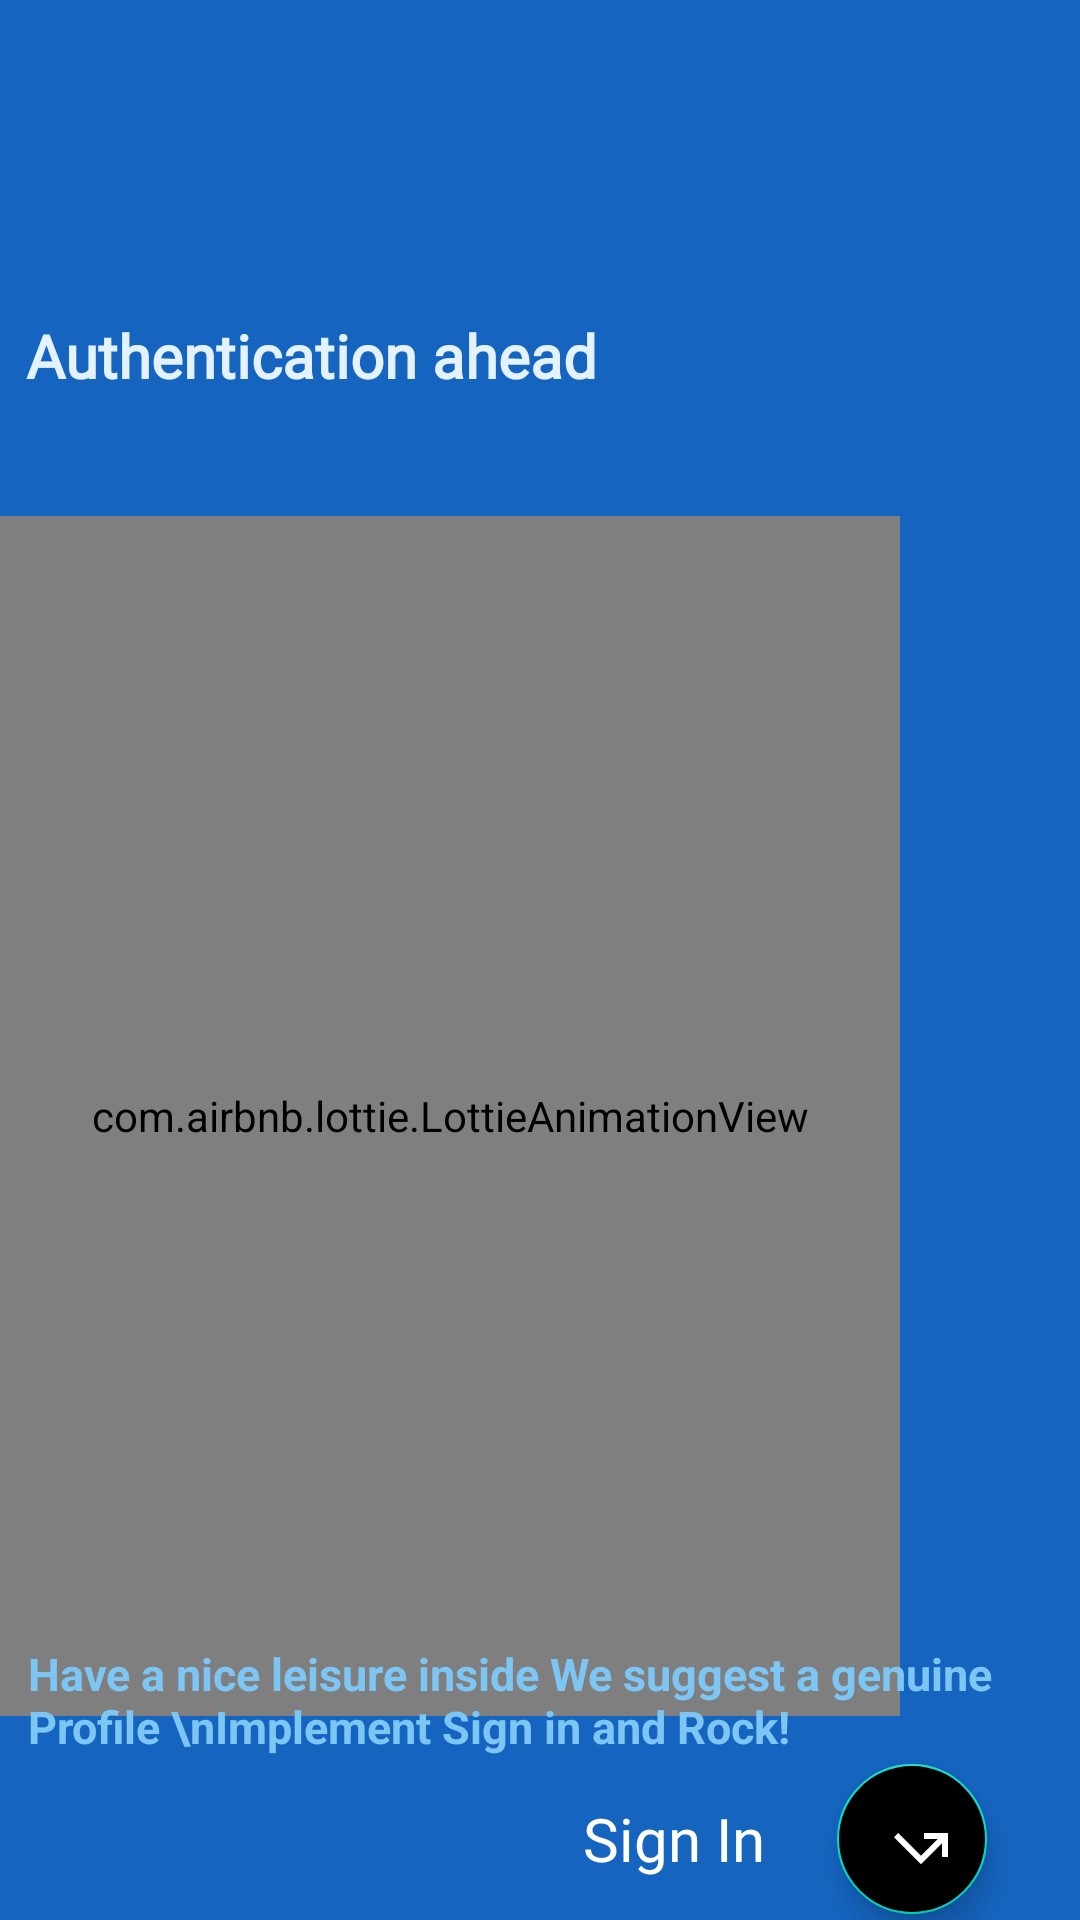

Where to tap for icons on this 1080px x 1920px app screen, as (x=x, y=y):
arowfrwdcut: (x=912, y=1839)
